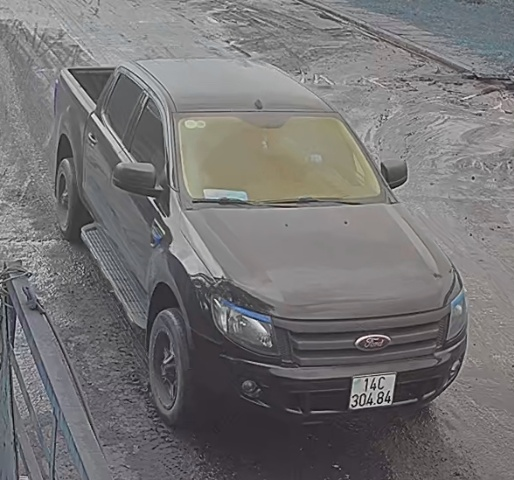vehicle plate: (346, 373, 405, 410)
